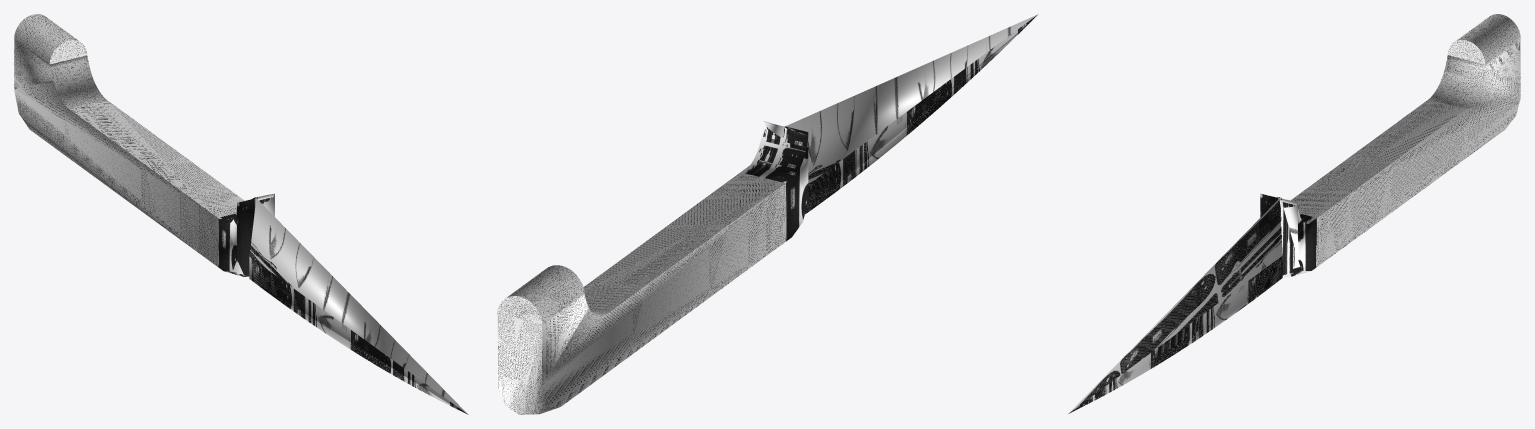
Rendered from model_scale.obj.
The picture shows the model from 3 angles, left to right: view 1: azimuth 30°, elevation 25°; view 2: azimuth 150°, elevation 25°; view 3: azimuth 330°, elevation 25°; orthographic projection. The views are drawn at different scales.
Parts seen in each view (by area): view 1: mesh1_mesh1-geometry, mesh2_mesh2-geometry; view 2: mesh1_mesh1-geometry; view 3: mesh1_mesh1-geometry, mesh2_mesh2-geometry.
Boxes of the visible parts, x1=… form: mesh1_mesh1-geometry: x1=14, y1=14, x2=468, y2=414; mesh2_mesh2-geometry: x1=49, y1=40, x2=87, y2=64; mesh1_mesh1-geometry: x1=497, y1=14, x2=1038, y2=414; mesh1_mesh1-geometry: x1=1068, y1=14, x2=1520, y2=414; mesh2_mesh2-geometry: x1=1447, y1=40, x2=1485, y2=64.
Bounding box in the file's own units: 0.0118 × 0.0303 × 0.2359.
